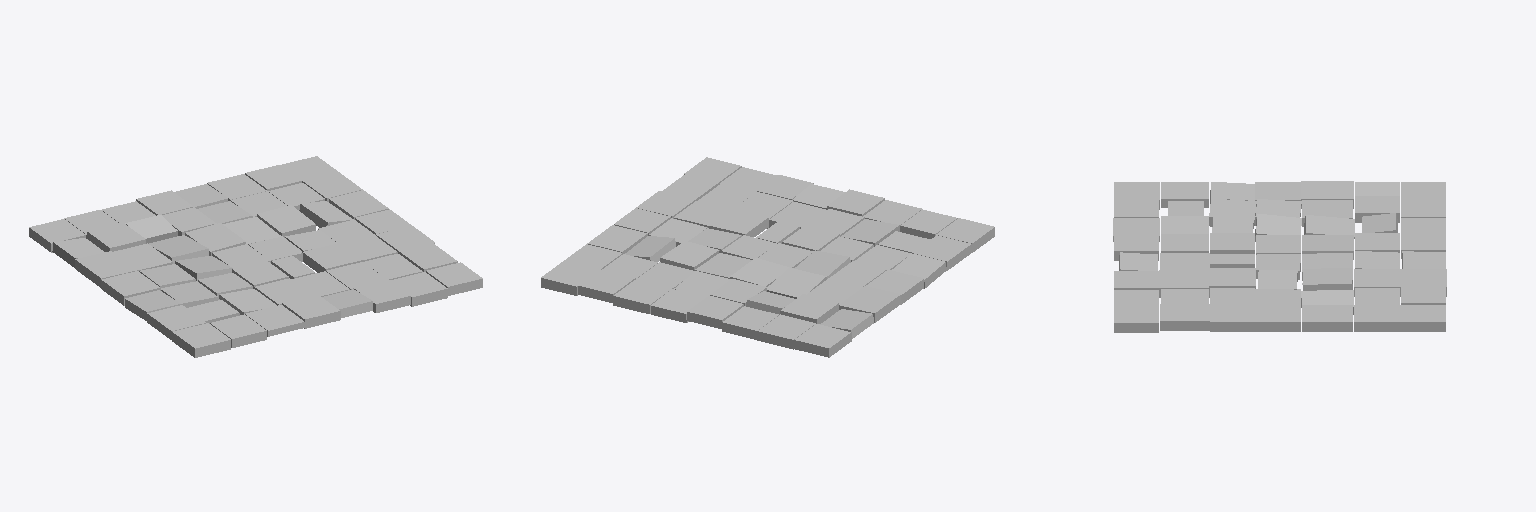
Rendered from floor.obj.
3 views of the same model, side by side, from view 1: azimuth 30°, elevation 25°; view 2: azimuth 150°, elevation 25°; view 3: azimuth 270°, elevation 25° (orthographic).
Parts seen in each view (by area): view 1: 3DSMesh_0_0; view 2: 3DSMesh_0_0; view 3: 3DSMesh_0_0.
Boxes of the visible parts, x1=… form: 3DSMesh_0_0: x1=29, y1=156, x2=482, y2=357; 3DSMesh_0_0: x1=541, y1=157, x2=994, y2=357; 3DSMesh_0_0: x1=1113, y1=181, x2=1446, y2=332.
Bounding box in the file's own units: 74.25 × 3.95 × 74.36.